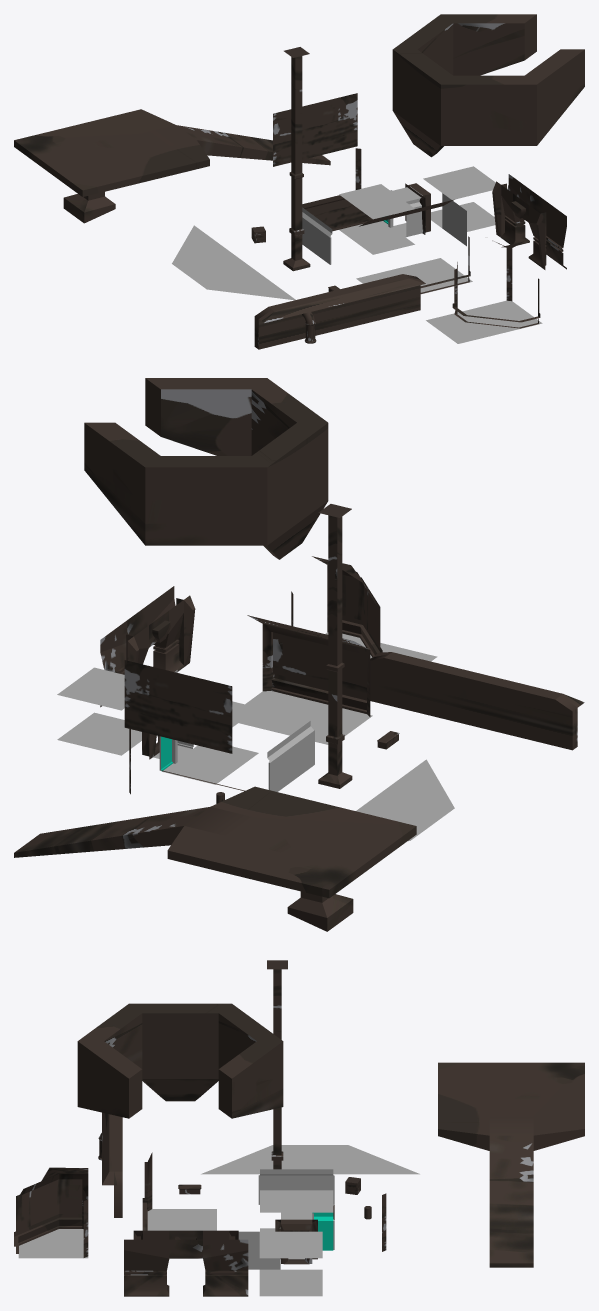
3 views of the same model, one above another, from view 1: azimuth 30°, elevation 25°; view 2: azimuth 150°, elevation 25°; view 3: azimuth 270°, elevation 25° (orthographic). The views are drawn at different scales.
Parts seen in each view (by area): view 1: adorment1, platform1, pCube69, Big_Gates9, Top_wall86, Big_Floor_CorridorOpener2, pilarbig8, Big_Floor_Corridor34, Big_Floor_Corridor36, corridor_top137, cellroom_top161, cell_room_wall139 (+7 smaller); view 2: adorment1, platform1, pCube69, Top_wall86, Wall_Main_Corridor80, Big_Gates9, pilarbig8, Big_Floor_CorridorOpener2, Big_Floor_Corridor36, mainCorridor_curve5, Corridor_Floor73, cellroom_floor165 (+2 smaller); view 3: adorment1, platform1, Big_Gates9, mainCorridor_curve5, Big_Floor_CorridorOpener2, corridor_top137, Corridor_Floor73, pCube69, cellroom_top161, Big_Floor_Corridor34, cell_room_wallback129, Big_Floor_Corridor36 (+5 smaller).
Boxes of the visible parts, <box> form: adorment1: <box>392,14,584,157</box>; platform1: <box>14,109,330,223</box>; pCube69: <box>254,274,425,349</box>; Big_Gates9: <box>492,174,566,269</box>; Top_wall86: <box>273,93,357,166</box>; Big_Floor_CorridorOpener2: <box>172,225,295,300</box>; pilarbig8: <box>283,47,310,271</box>; Big_Floor_Corridor34: <box>426,300,542,343</box>; Big_Floor_Corridor36: <box>356,258,472,294</box>; corridor_top137: <box>423,166,495,199</box>; cellroom_top161: <box>339,184,414,219</box>; cell_room_wall139: <box>302,195,372,231</box>; adorment1: <box>84,378,328,559</box>; platform1: <box>14,786,416,931</box>; pCube69: <box>370,652,584,750</box>; Top_wall86: <box>124,660,232,753</box>; Wall_Main_Corridor80: <box>262,624,370,716</box>; Big_Gates9: <box>100,586,195,707</box>; pilarbig8: <box>318,504,352,788</box>; Big_Floor_CorridorOpener2: <box>356,759,454,841</box>; Big_Floor_Corridor36: <box>239,691,372,744</box>; mainCorridor_curve5: <box>327,565,382,656</box>; Corridor_Floor73: <box>57,712,141,755</box>; cellroom_floor165: <box>162,745,258,784</box>; adorment1: <box>77,1003,283,1118</box>; platform1: <box>438,1062,584,1267</box>; Big_Gates9: <box>124,1230,248,1296</box>; mainCorridor_curve5: <box>14,1173,88,1253</box>; Big_Floor_CorridorOpener2: <box>201,1145,419,1174</box>; corridor_top137: <box>259,1231,322,1258</box>; Corridor_Floor73: <box>259,1269,322,1296</box>; pCube69: <box>102,1112,122,1217</box>; cellroom_top161: <box>260,1190,333,1212</box>; Big_Floor_Corridor34: <box>18,1229,88,1258</box>; cell_room_wallback129: <box>260,1169,333,1190</box>; Big_Floor_Corridor36: <box>147,1209,216,1230</box>.
Bounding box in the file's own units: 21 × 12.23 × 27.11.
